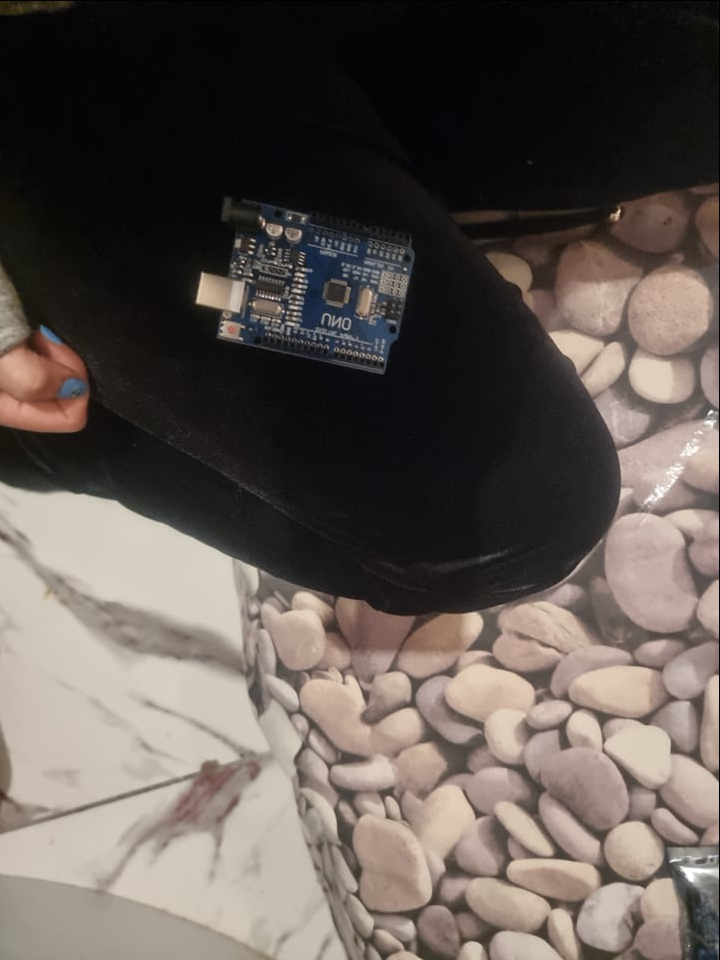5V EXPANSION: (198, 190, 413, 372)
